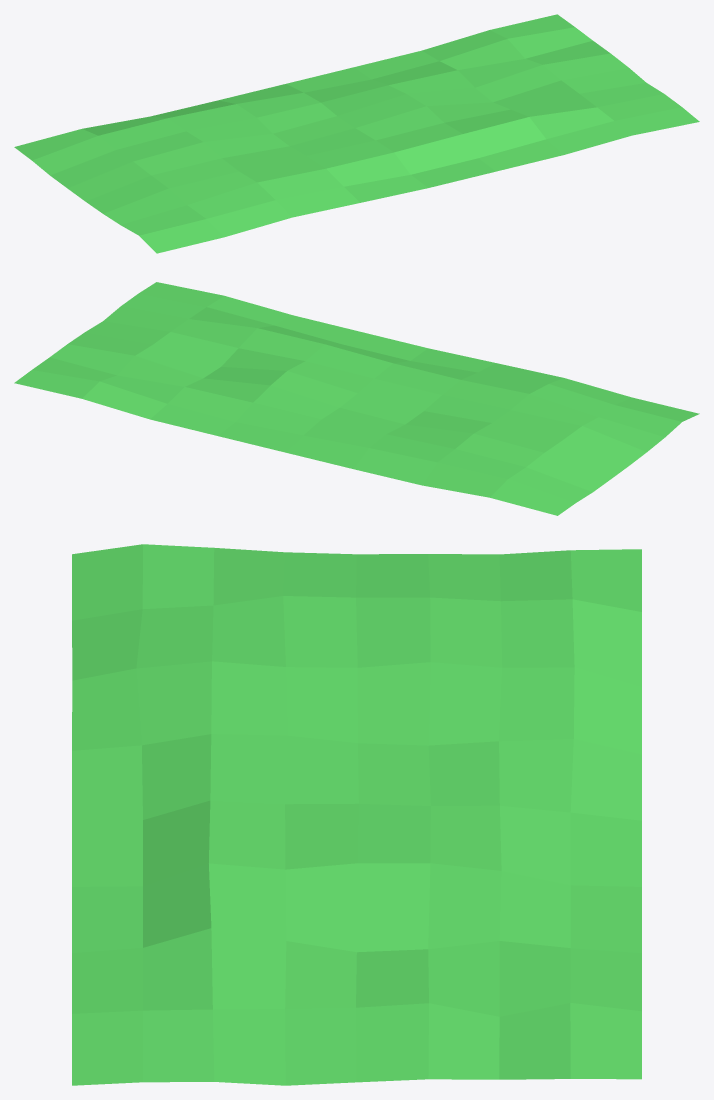
Rendered from trawa.gltf.
3 views of the same model, one above another, from view 1: azimuth 30°, elevation 25°; view 2: azimuth 150°, elevation 25°; view 3: azimuth 270°, elevation 25° (orthographic). The views are drawn at different scales.
Parts seen in each view (by area): view 1: Plane; view 2: Plane; view 3: Plane.
Boxes of the visible parts, left/top/right/bottom form: Plane: left=14, top=14, right=699, bottom=253; Plane: left=14, top=282, right=699, bottom=515; Plane: left=72, top=544, right=641, bottom=1085.
Bounding box in the file's own units: 22.7 × 0.5325 × 10.3.
